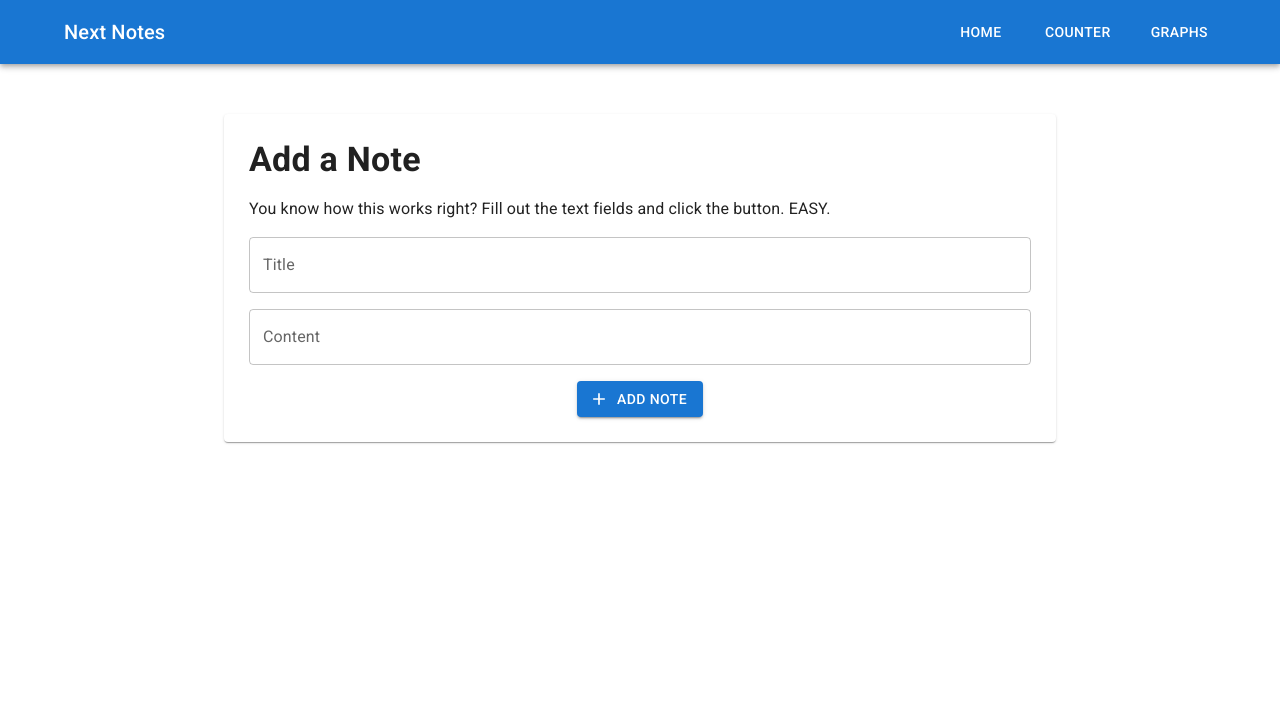
Home Page Tests › Form Validation Should fail when no title and content are present
This screenshot has width=1280, height=720.
Note: Click submit button without entering anything
Step 1. Click the button with test id "add-note-submit" → (640, 400), box [577,381,703,418]
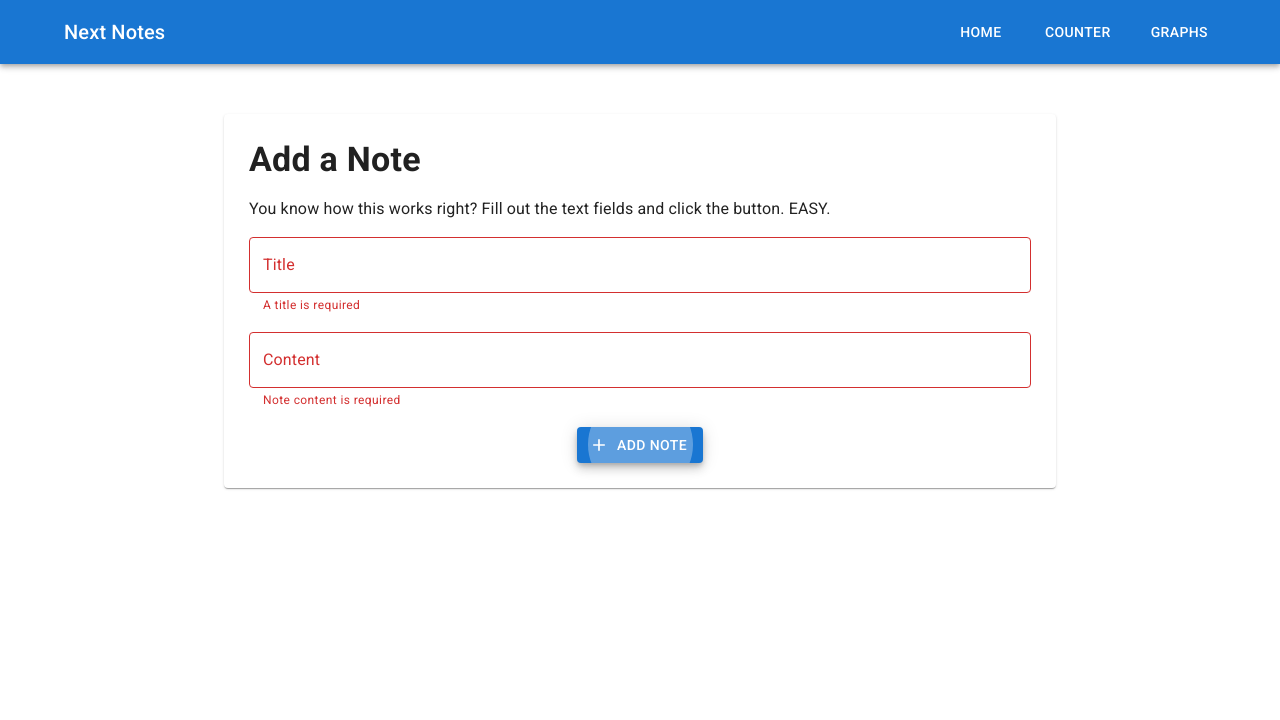
Expected: the text "A title is required" is shown, [263,298,360,312]
Expected: the text "Note content is required" is shown, [263,393,401,407]
